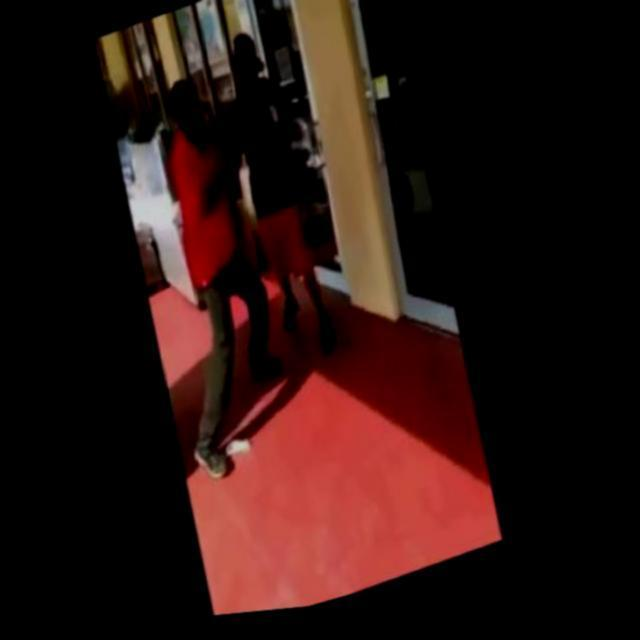fight: (125, 13, 382, 496)
